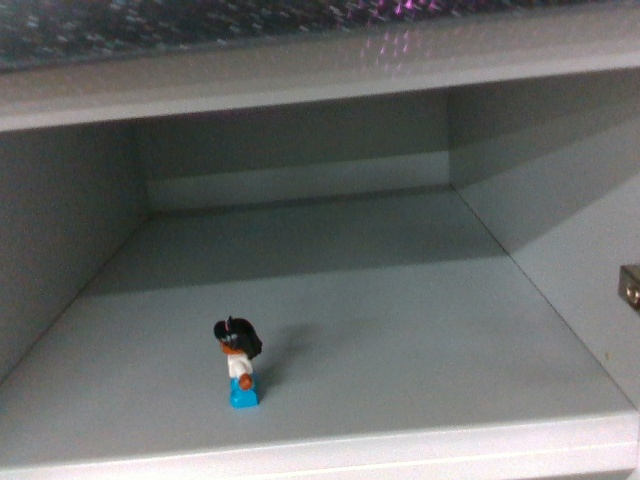people: (211, 312, 267, 414)
